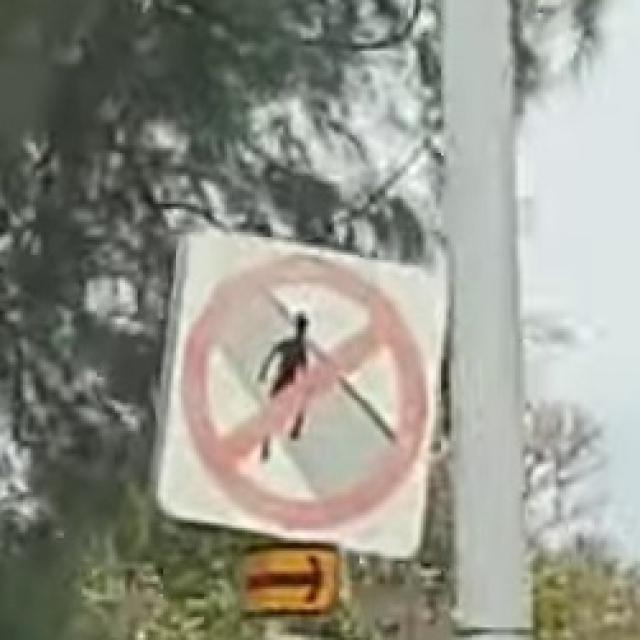nojaywalking_sign: (145, 219, 454, 561)
